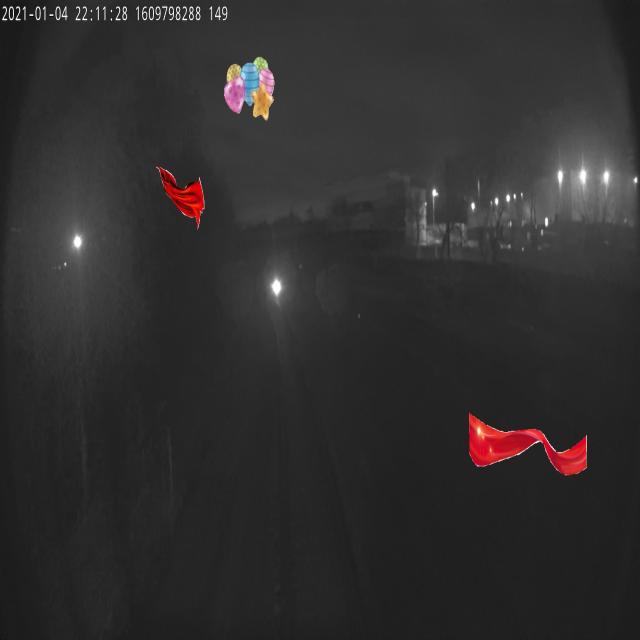balloon: (224, 56, 275, 120)
floating object: (466, 412, 589, 477), (156, 166, 204, 230)
